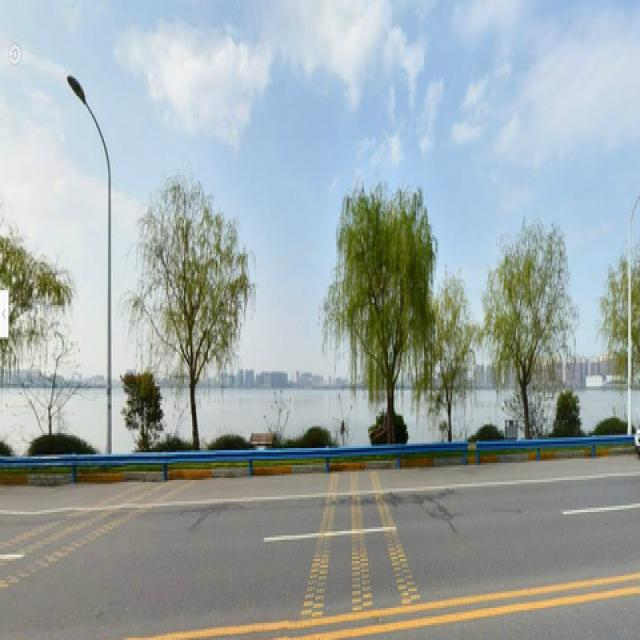plat: (128, 194, 257, 463), (324, 194, 433, 437)
